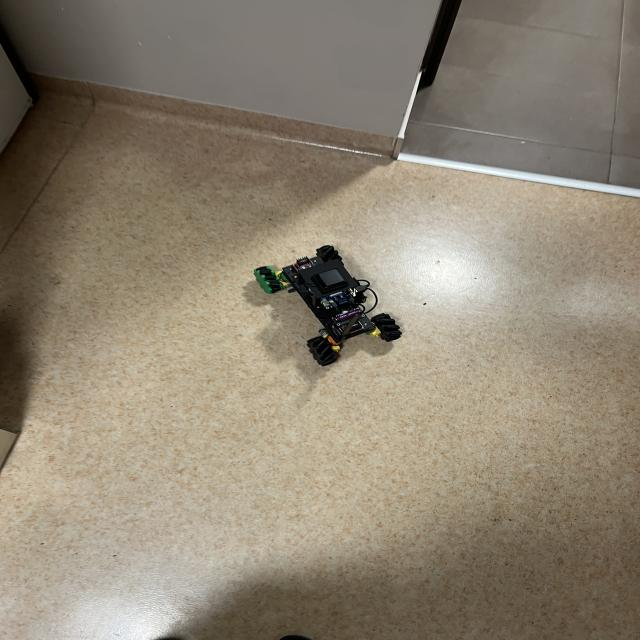robot: (254, 245, 402, 366)
